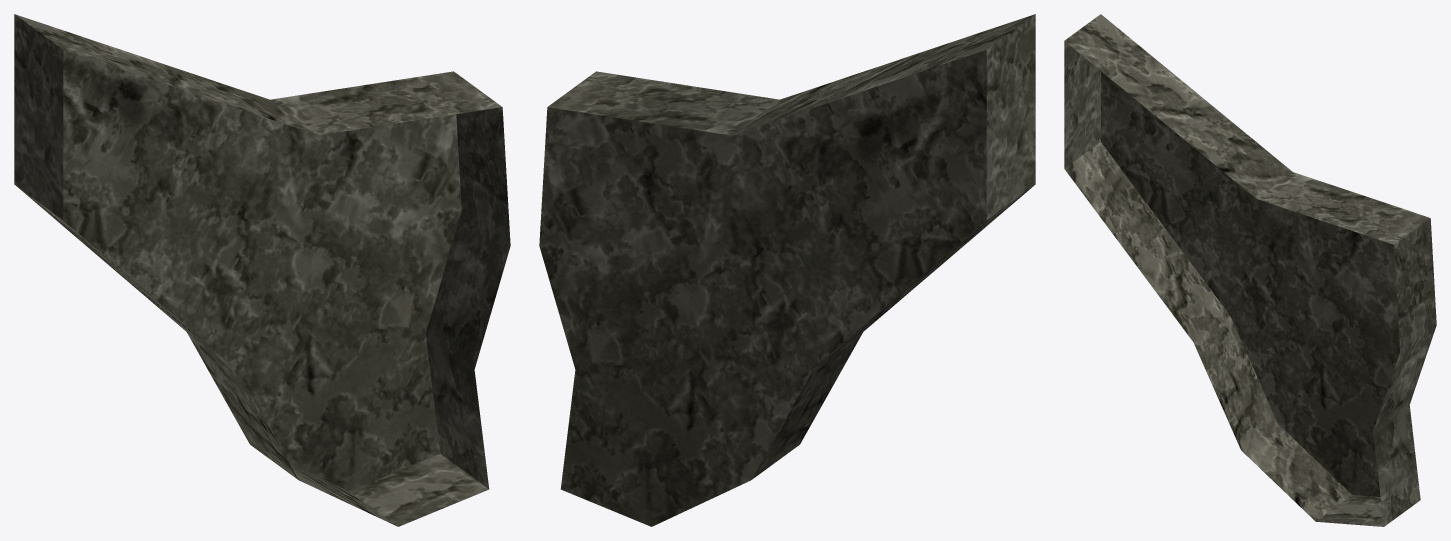
The model's file is TI_Plaster_03.fbx.
3 renders of one model, left to right at view 1: azimuth 30°, elevation 25°; view 2: azimuth 150°, elevation 25°; view 3: azimuth 330°, elevation 25°, orthographic. The views are drawn at different scales.
Visible parts, largest first — view 1: TI_Plaster_03; view 2: TI_Plaster_03; view 3: TI_Plaster_03.
Part boxes in pixels (<box>): TI_Plaster_03: <box>14,14,510,526</box>; TI_Plaster_03: <box>539,14,1035,526</box>; TI_Plaster_03: <box>1064,14,1436,526</box>.
Size of the model in its own units: 0.56 by 0.6685 by 0.1059.
